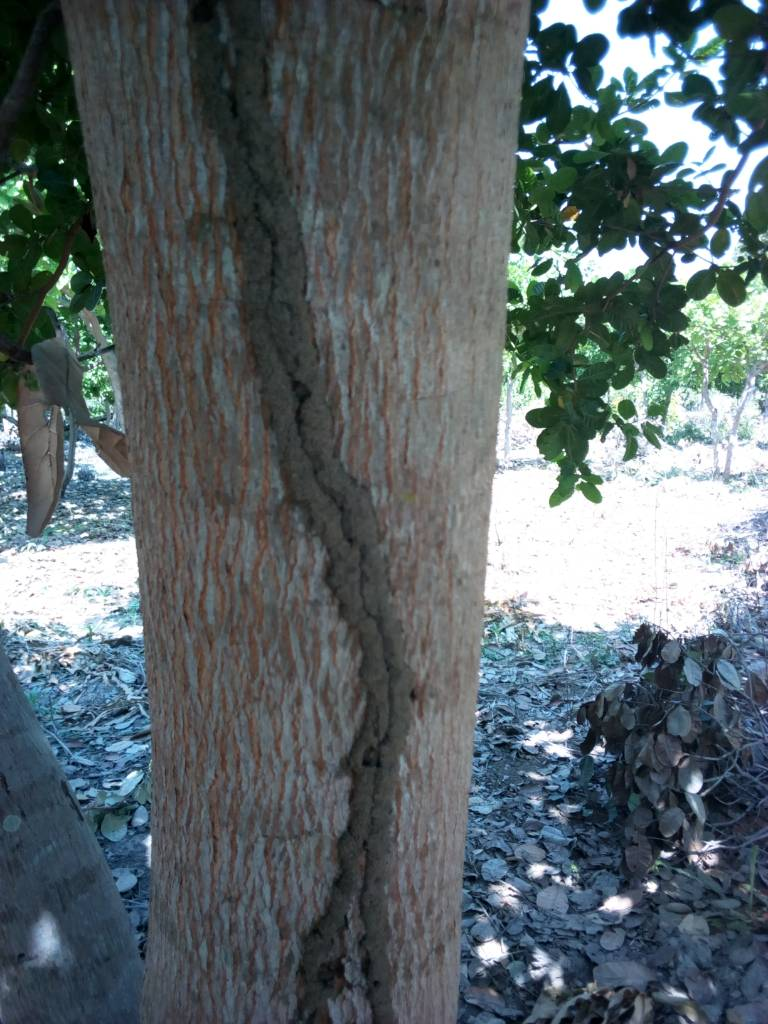Termites: (196, 11, 358, 417), (315, 422, 422, 1024)
